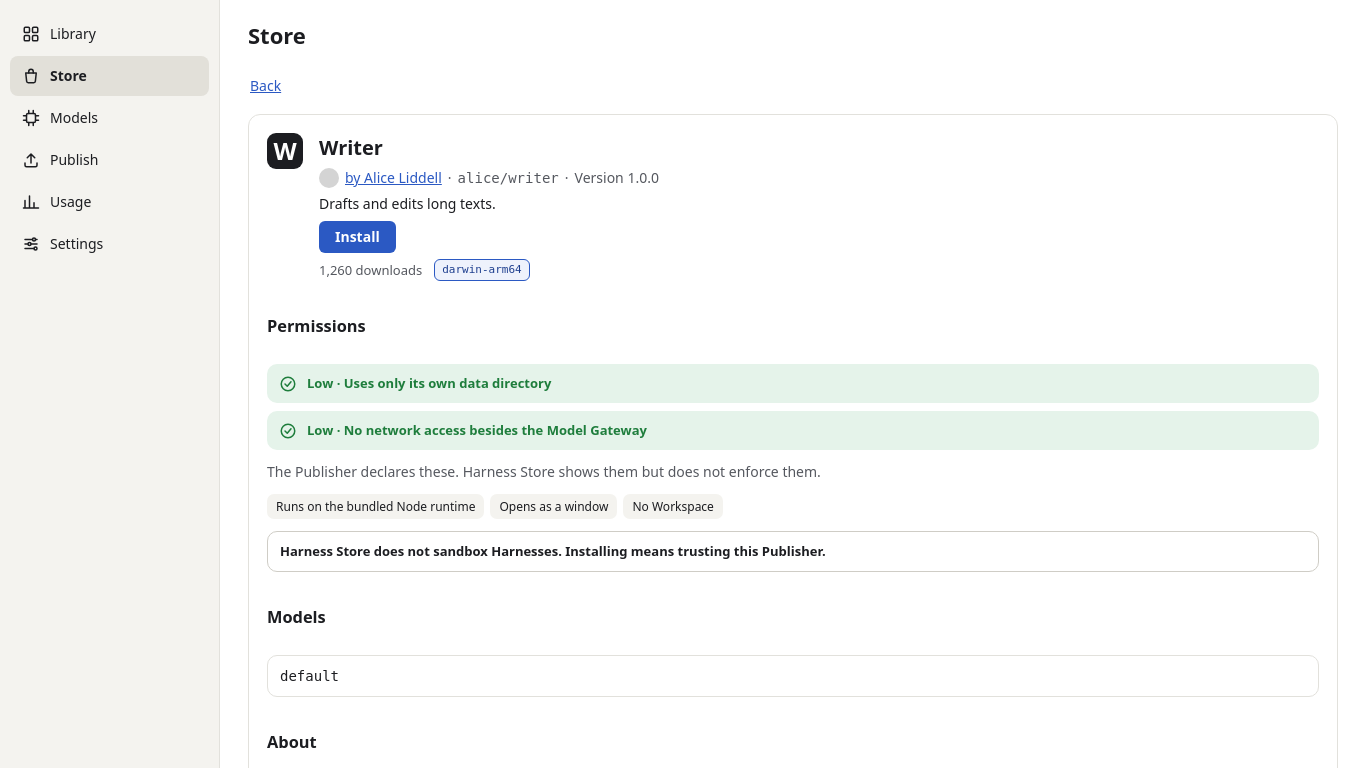
Test: getting there and back › goes from the detail page’s Publisher, avatar and name as one link, to their page
Click the link "by Alice Liddell".
click(380, 178)  # box top-left (319, 168), bottom-right (442, 188)
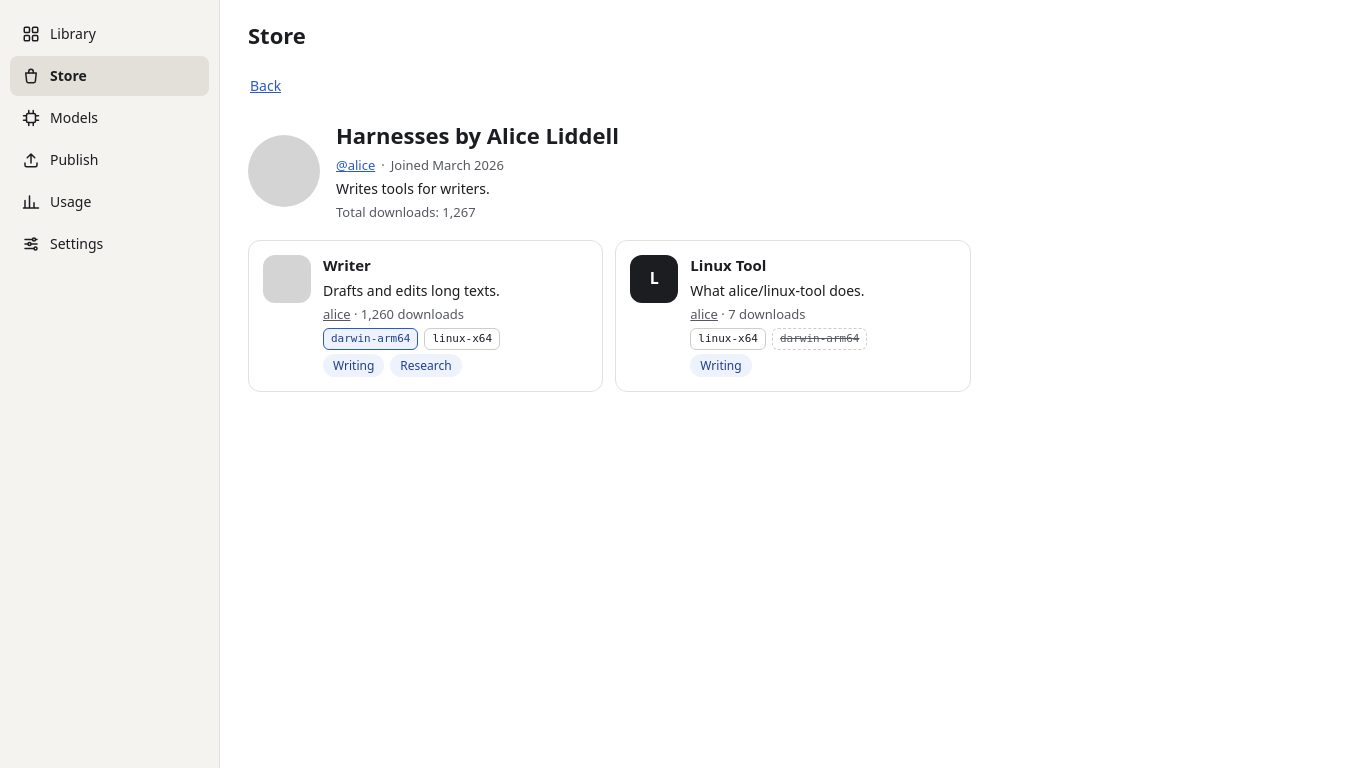
Result: the heading "Harnesses by Alice Liddell" is shown at top-left (336, 120), bottom-right (619, 152)
